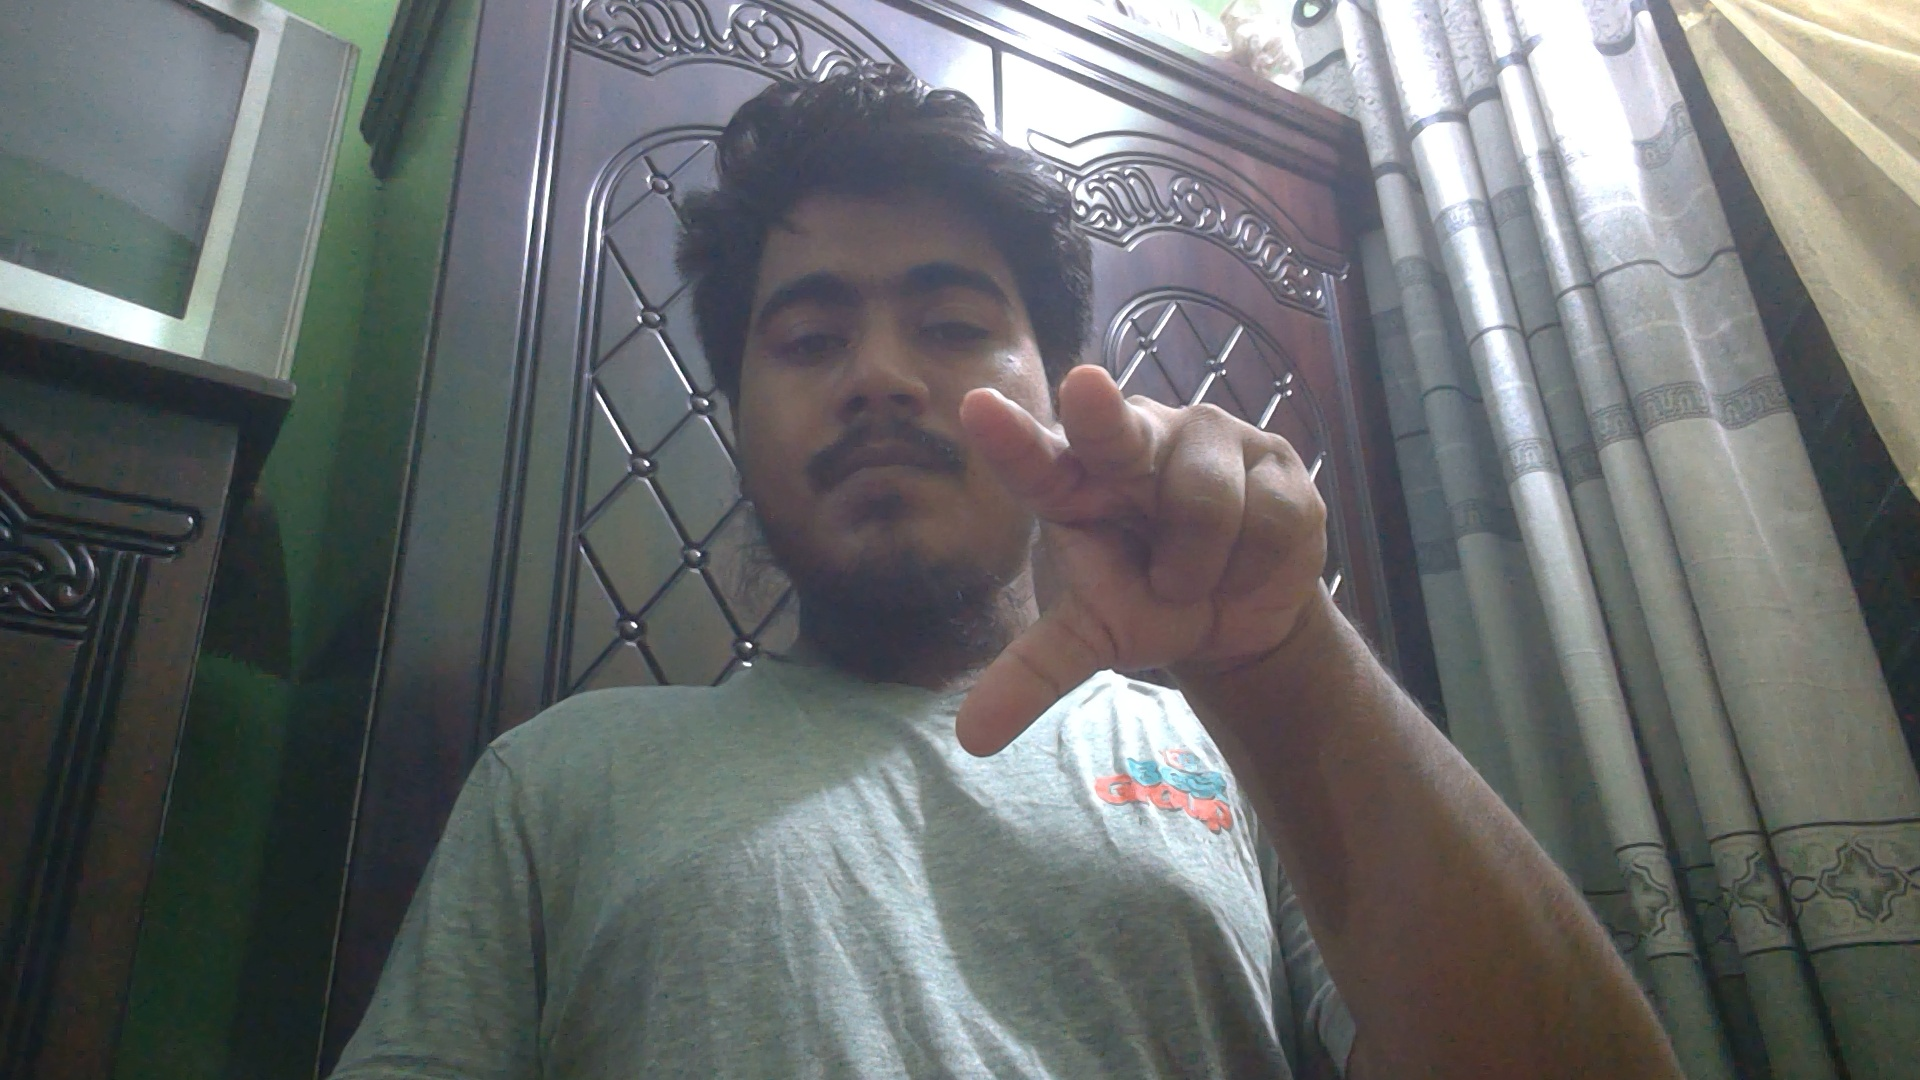No: (942, 363, 1337, 766)
